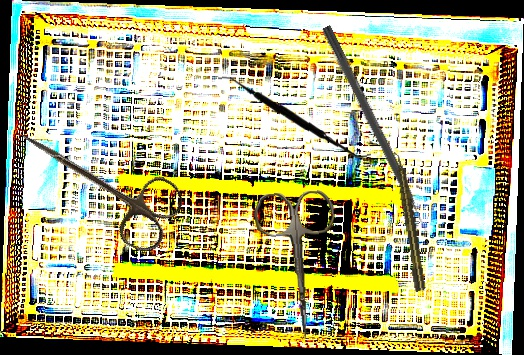Handpiece: (392, 150, 427, 293)
Iris Scissors: (1, 105, 190, 259), (252, 189, 345, 342)
Pusher: (319, 24, 433, 239)
Spatula Surgical: (217, 69, 372, 163)
